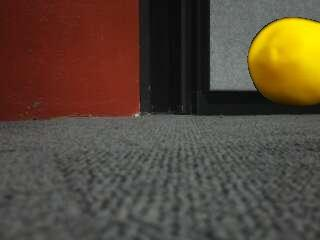Capsicum: (245, 17, 320, 109)
